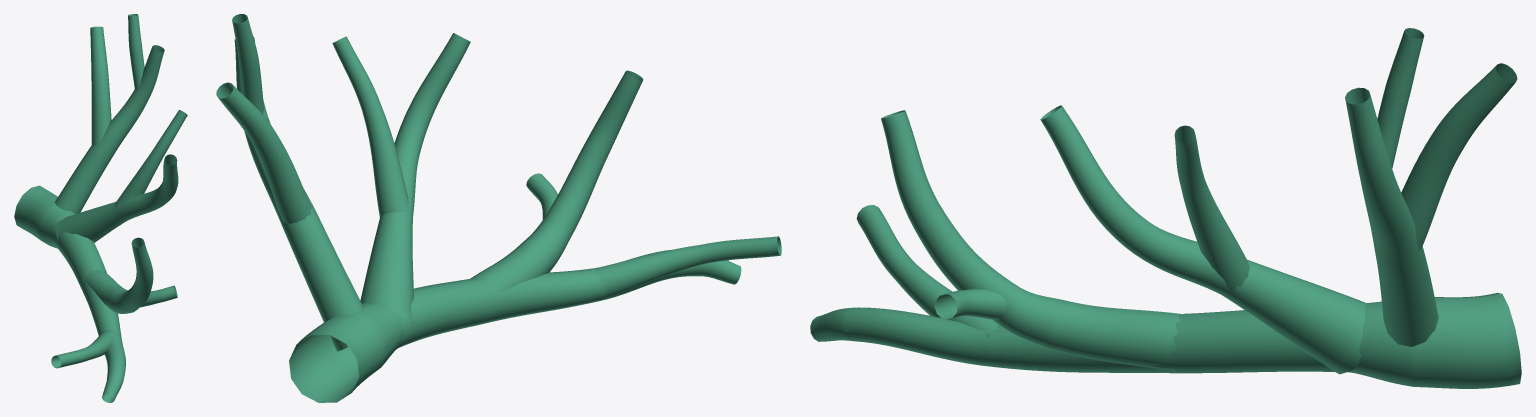
3 views of the same model, side by side, from view 1: azimuth 30°, elevation 25°; view 2: azimuth 150°, elevation 25°; view 3: azimuth 270°, elevation 25° (orthographic). The views are drawn at different scales.
Visible parts, largest first — view 1: 左肺尖后段支气管（第1＋2段）; view 2: 左肺尖后段支气管（第1＋2段）; view 3: 左肺尖后段支气管（第1＋2段）.
Part boxes in pixels (left/top/right/bottom): 左肺尖后段支气管（第1＋2段）: left=14, top=14, right=187, bottom=402; 左肺尖后段支气管（第1＋2段）: left=216, top=14, right=781, bottom=402; 左肺尖后段支气管（第1＋2段）: left=810, top=28, right=1521, bottom=388.
Bounding box in the file's own units: 0.0912 × 0.0897 × 0.121.
